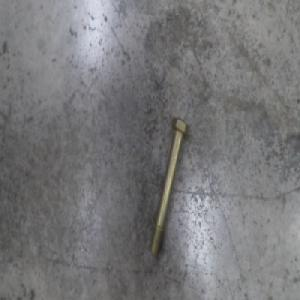Bolt: (149, 114, 189, 257)
